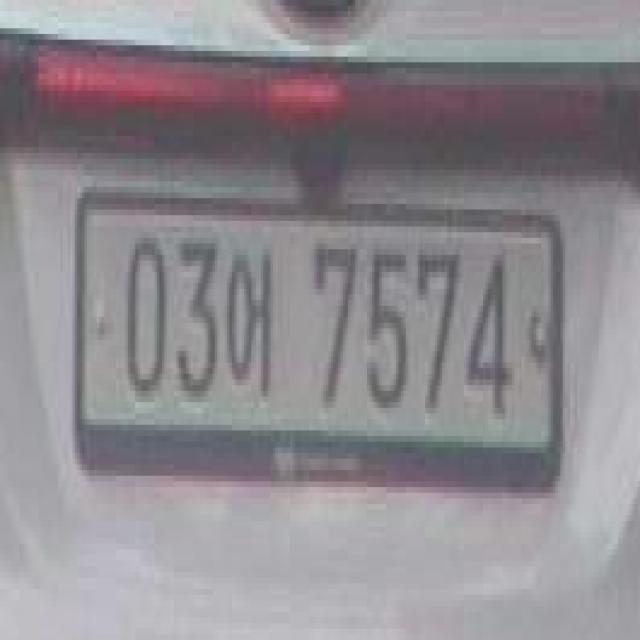illegal_plate: (74, 182, 564, 510)
